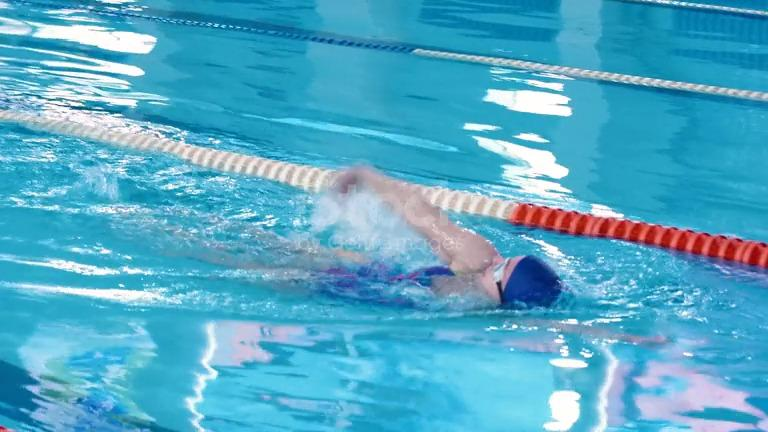Swimming: (134, 109, 588, 343)
